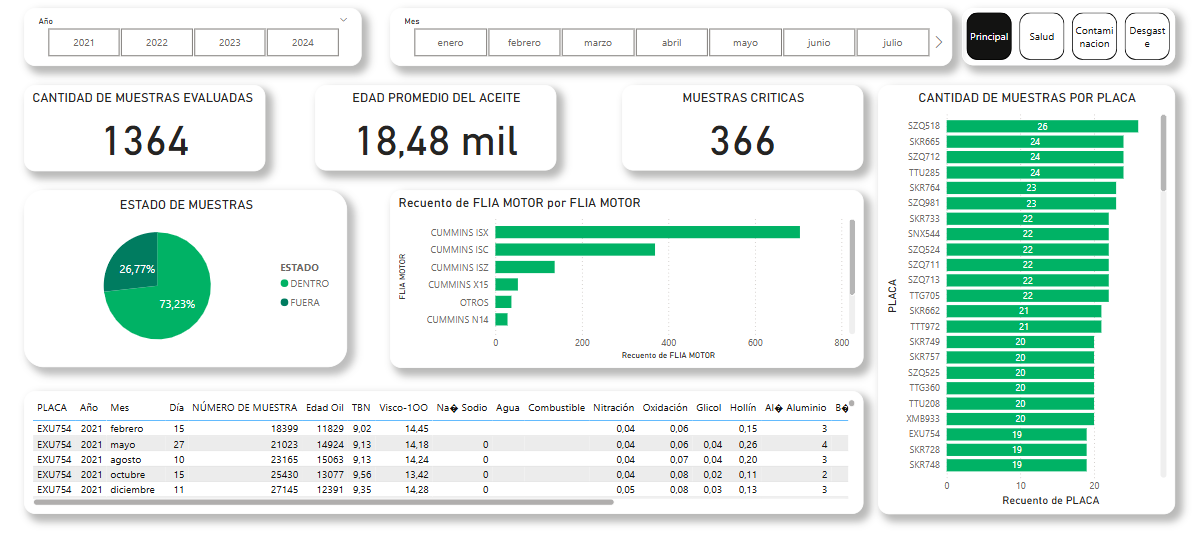

The page's visual inventory and layout, read from the dashboard file:
{"tool":"powerbi","page":{"name":"Principal","canvas":[1580,720],"ordinal":0},"visuals":[{"type":"card","title":"CANTIDAD DE MUESTRAS EVALUADAS","fields":{"Values":["Count(Historial.Nro � MUESTRA )"]},"box":[40.3,119.3,315.8,112.5],"z":0},{"type":"pieChart","title":"ESTADO DE MUESTRAS","fields":{"Category":["Historial.ESTADO "],"Y":["CountNonNull(Historial.ESTADO )"]},"box":[40.3,257,423.3,231.8],"z":1000},{"type":"slicer","fields":{"Values":["Historial.FECHA DE TOMA .Variación.Jerarquía de fechas.Año"]},"box":[40.3,18.5,441.8,75.6],"z":2000},{"type":"slicer","fields":{"Values":["Historial.FECHA DE TOMA .Variación.Jerarquía de fechas.Mes"]},"box":[519.1,18.5,735.7,75.6],"z":3000},{"type":"clusteredBarChart","fields":{"Category":["Historial.FLIA MOTOR "],"Y":["CountNonNull(Historial.FLIA MOTOR )"]},"box":[519.9,256.5,620.1,232.8],"z":4000},{"type":"card","title":"EDAD PROMEDIO DEL ACEITE","fields":{"Values":["Avg(Historial.Edad Oil)"]},"box":[421.3,118.9,316,112.1],"z":5000},{"type":"card","title":"MUESTRAS CRITICAS","fields":{"Values":["CountNonNull(Historial.ESTADO )"]},"box":[824,118.9,316,112.1],"z":6000},{"type":"tableEx","fields":{"Values":["Historial.PLACA ","Historial.FECHA DE TOMA .Variación.Jerarquía de fechas.Año","Historial.FECHA DE TOMA .Variación.Jerarquía de fechas.Mes","Historial.FECHA DE TOMA .Variación.Jerarquía de fechas.Día","Sum(Historial.NUMERO DE MUESTRA)","Historial.Edad Oil","Historial.TBN","Historial.Visco-1OO","Historial.Na� Sodio","Historial.Agua","Historial.Combustible","Historial.Nitración"]},"box":[40.8,519.9,1099.2,161.4],"z":7000},{"type":"pageNavigator","box":[1269.1,18.7,278.6,74.8],"z":8000},{"type":"barChart","title":"CANTIDAD DE MUESTRAS POR PLACA","fields":{"Category":["Historial.PLACA "],"Y":["CountNonNull(Historial.PLACA )"]},"box":[1158.7,118.9,389.1,562.3],"z":9000}]}

Visuals, with their boxes in screenshot pixels (x1, y1, x2, y2), scaled from the page's 1580x720 canvas onto the 1193x537 screenshot:
"CANTIDAD DE MUESTRAS EVALUADAS" card: 30/89/269/173
"ESTADO DE MUESTRAS" pieChart: 30/192/350/365
slicer - Historial.FECHA DE TOMA .Variación.Jerarquía de fechas.Año: 30/14/364/70
slicer - Historial.FECHA DE TOMA .Variación.Jerarquía de fechas.Mes: 392/14/947/70
clusteredBarChart - Historial.FLIA MOTOR  x CountNonNull(Historial.FLIA MOTOR ): 393/191/861/365
"EDAD PROMEDIO DEL ACEITE" card: 318/89/557/172
"MUESTRAS CRITICAS" card: 622/89/861/172
tableEx - Historial.PLACA  x Historial.FECHA DE TOMA .Variación.Jerarquía de fechas.Año: 31/388/861/508
pageNavigator: 958/14/1169/70
"CANTIDAD DE MUESTRAS POR PLACA" barChart: 875/89/1169/508
